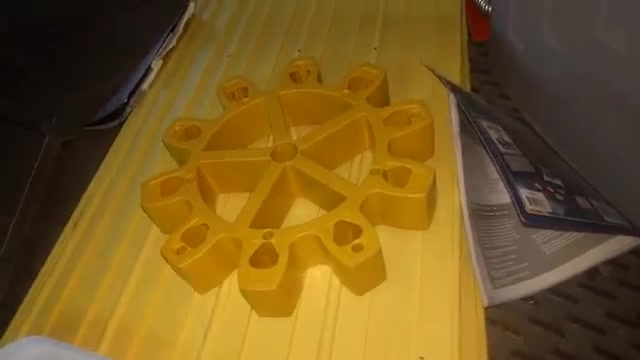gear: (140, 52, 442, 326)
